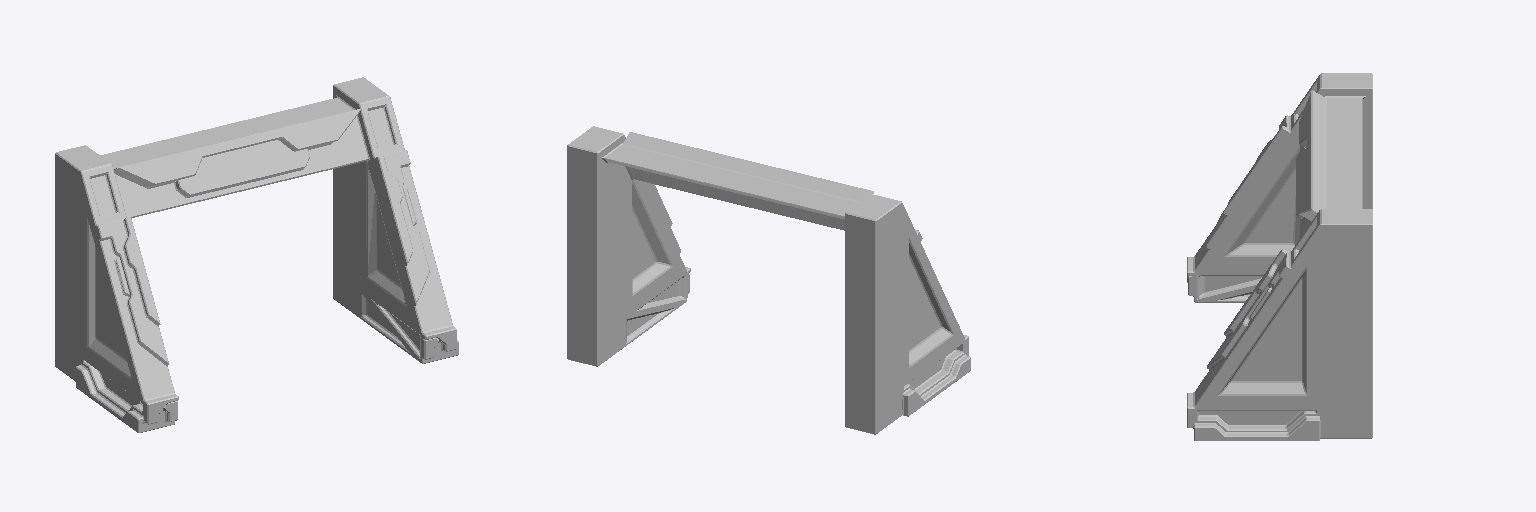
The model's file is Entrance.obj.
3 views of the same model, side by side, from view 1: azimuth 30°, elevation 25°; view 2: azimuth 150°, elevation 25°; view 3: azimuth 270°, elevation 25° (orthographic).
Parts seen in each view (by area): view 1: Entrance_Plane.005; view 2: Entrance_Plane.005; view 3: Entrance_Plane.005.
Part boxes in pixels (x1,y1,x2,y2): Entrance_Plane.005: (55, 77, 458, 432); Entrance_Plane.005: (567, 126, 970, 434); Entrance_Plane.005: (1187, 73, 1372, 440).
Bounding box in the file's own units: 20.32 × 12.98 × 10.22.